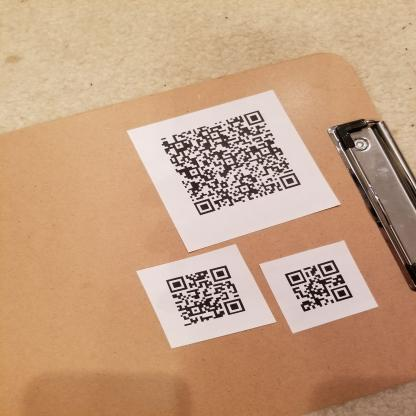qr: (156, 104, 305, 218), (162, 262, 250, 332), (279, 258, 358, 320)
